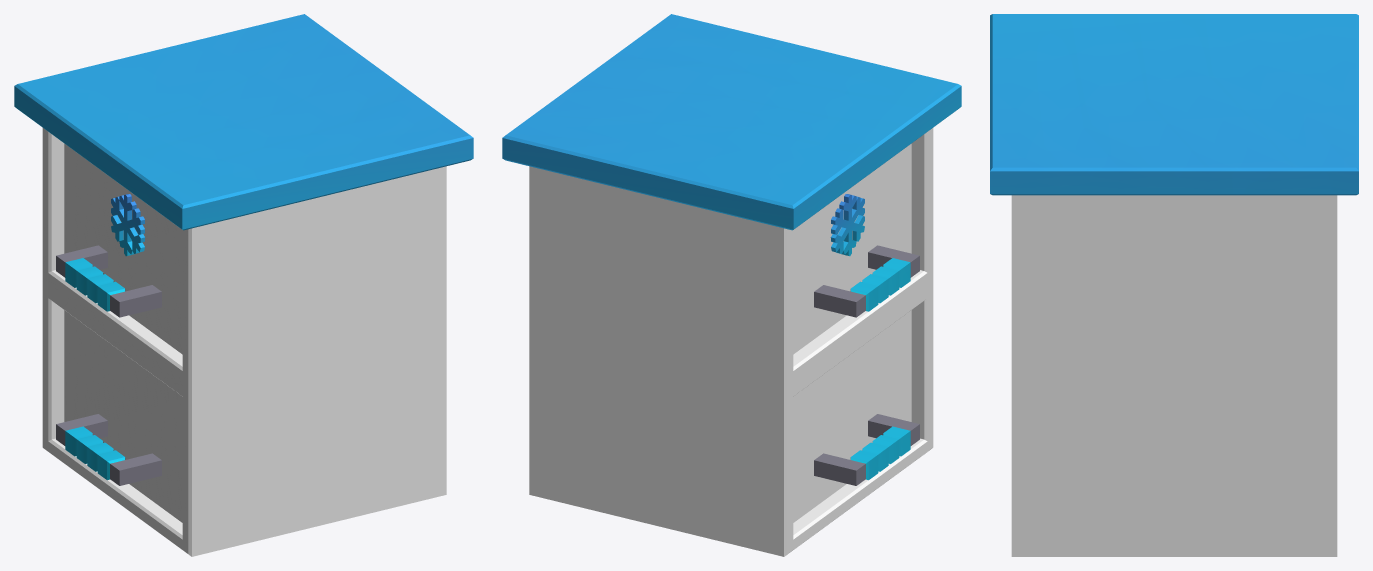
Rendered from Freeze_M 1.fbx.
3 renders of one model, left to right at view 1: azimuth 30°, elevation 25°; view 2: azimuth 150°, elevation 25°; view 3: azimuth 270°, elevation 25°, orthographic. The views are drawn at different scales.
Parts seen in each view (by area): view 1: pasted__Part_01, pasted__Part_01_2, pasted__Part_01_1; view 2: pasted__Part_01, pasted__Part_01_2, pasted__Part_01_1; view 3: pasted__Part_01.
Boxes of the visible parts, left/top/right/bottom form: pasted__Part_01: left=14, top=14, right=473, bottom=556; pasted__Part_01_2: left=56, top=310, right=182, bottom=522; pasted__Part_01_1: left=56, top=143, right=182, bottom=354; pasted__Part_01: left=502, top=14, right=961, bottom=556; pasted__Part_01_2: left=793, top=310, right=919, bottom=522; pasted__Part_01_1: left=793, top=143, right=919, bottom=354; pasted__Part_01: left=990, top=14, right=1358, bottom=556.
Size of the model in its own units: 99.07 by 113 by 95.11.
1 material, 1 textured.
